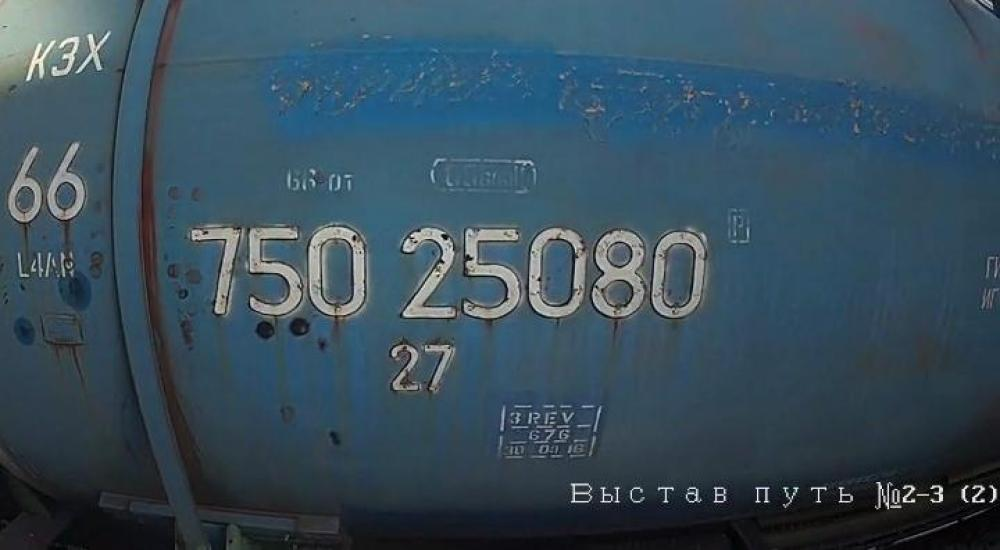Wagon-number: (181, 216, 718, 330)
